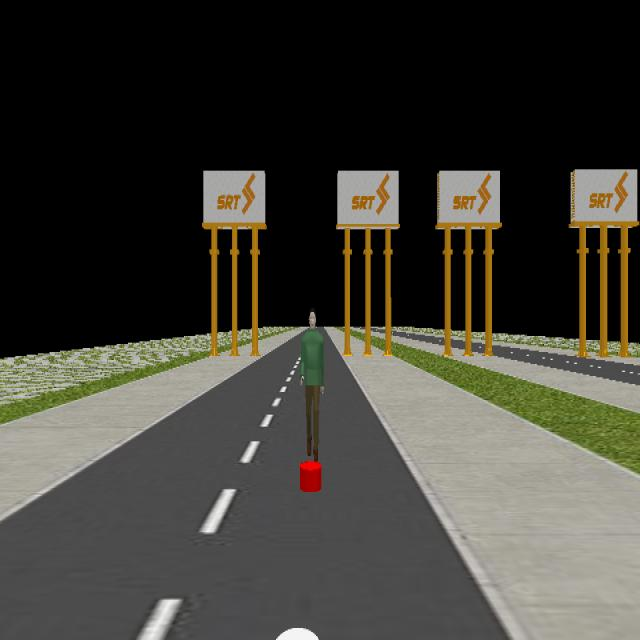human: (301, 307, 324, 462)
